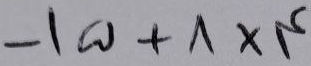character: (275, 6, 308, 59), (78, 19, 114, 56), (188, 14, 218, 58), (138, 24, 175, 56), (49, 6, 70, 58), (236, 22, 266, 57), (4, 40, 34, 58)
